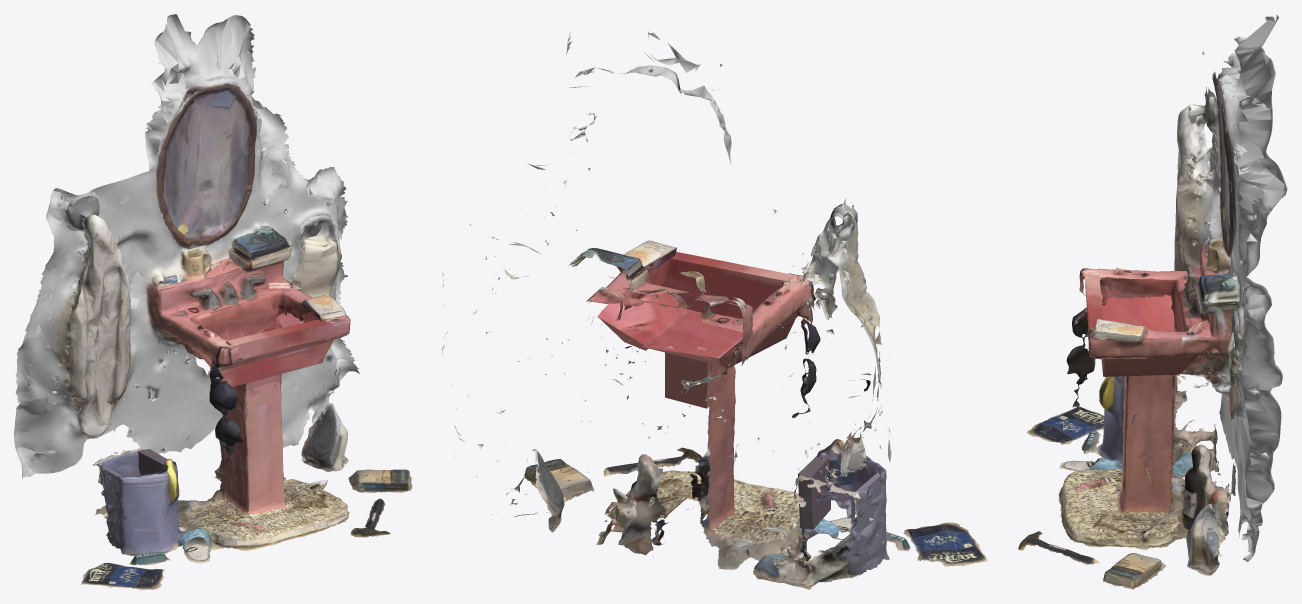
File: kristina4.glb
The picture shows the model from 3 angles, left to right: view 1: azimuth 30°, elevation 25°; view 2: azimuth 150°, elevation 25°; view 3: azimuth 270°, elevation 25°; orthographic projection. The views are drawn at different scales.
Parts seen in each view (by area): view 1: mmGroup0, mmGroup0.001, Cube; view 2: mmGroup0, Cube, mmGroup0.001; view 3: mmGroup0, mmGroup0.001, Cube.
Boxes of the visible parts, x1,y1,x2,y2 form: mmGroup0: [64, 82, 412, 589]; mmGroup0.001: [14, 14, 359, 479]; Cube: [101, 301, 347, 506]; mmGroup0: [492, 203, 988, 589]; Cube: [597, 241, 881, 534]; mmGroup0.001: [441, 29, 891, 543]; mmGroup0: [1018, 71, 1242, 589]; mmGroup0.001: [1180, 15, 1287, 562]; Cube: [1085, 275, 1199, 417].
Bounding box in the file's own units: 17.24 × 20.89 × 10.44.
3 materials, 3 textured.
